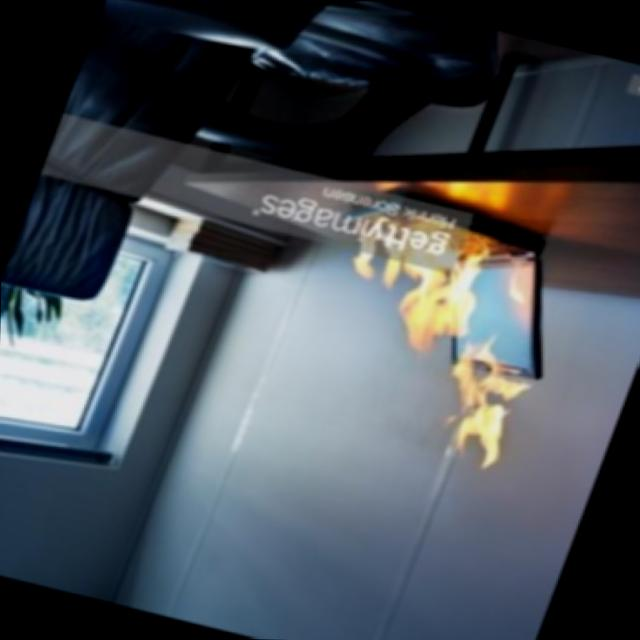fire: (259, 170, 606, 484)
